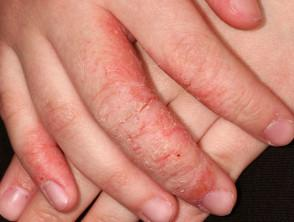Eczema: (30, 119, 67, 172), (180, 168, 217, 210), (156, 105, 194, 145), (23, 143, 54, 190), (130, 83, 164, 124), (119, 53, 151, 95), (162, 54, 193, 96), (184, 87, 225, 118), (126, 121, 149, 164), (146, 140, 174, 172), (163, 139, 190, 171), (113, 33, 139, 60), (104, 15, 129, 42)
